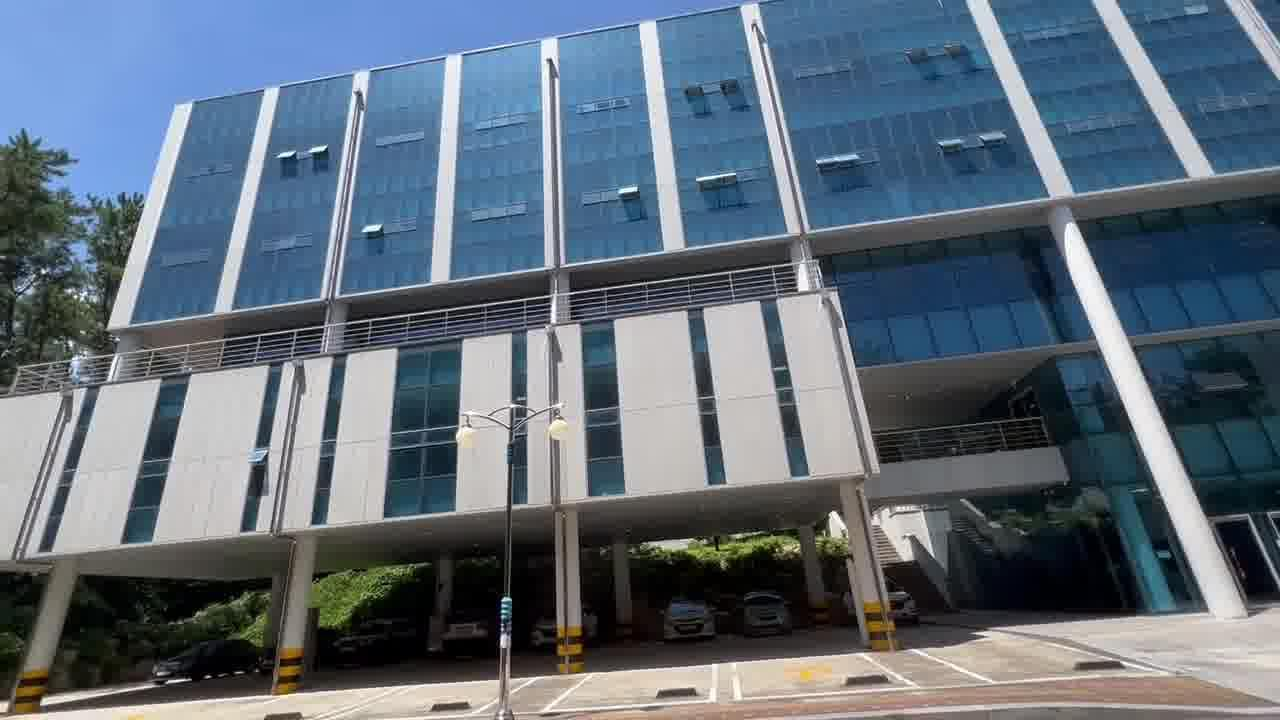building: (34, 24, 1280, 521)
